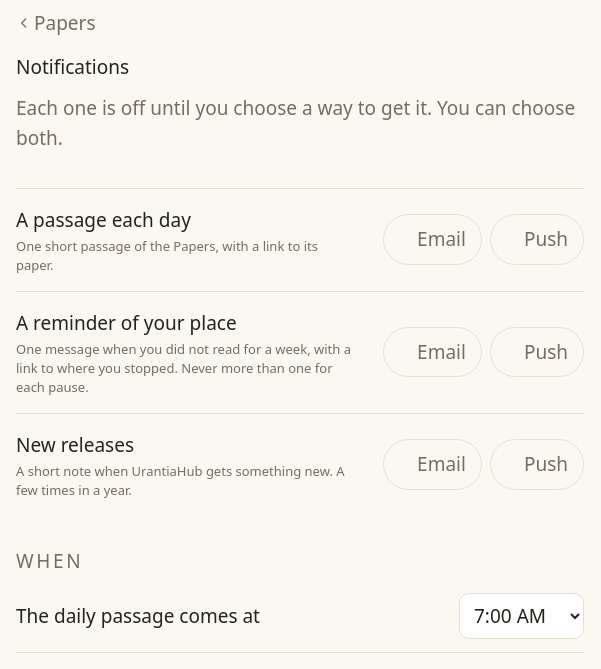
Test: the Notifications page › says so when the device did not turn on, and saves nothing
Click the button "Push" in the row of "A passage each day": click(537, 240) x1=490 y1=214 x2=584 y2=265
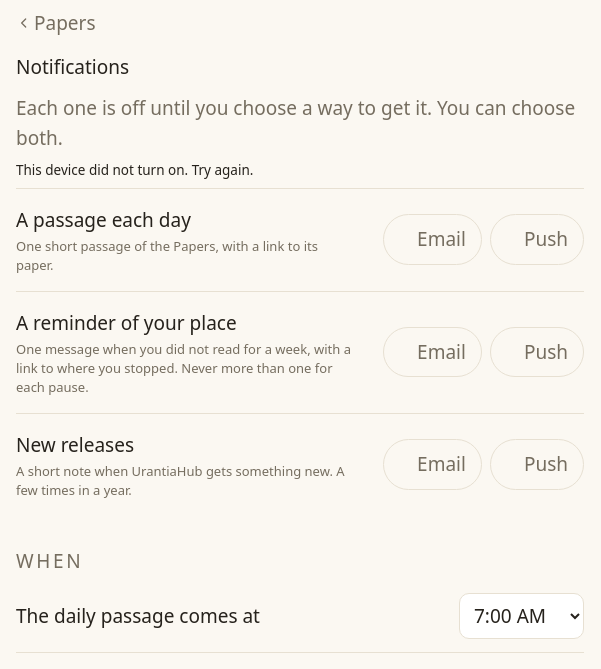
Expected: the text "This device did not turn on. Try again." is shown, x1=16 y1=161 x2=253 y2=179
